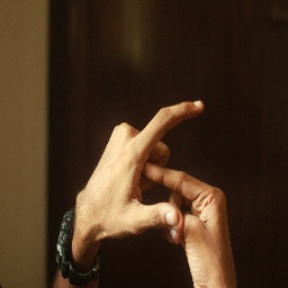E: (123, 90, 218, 243)
